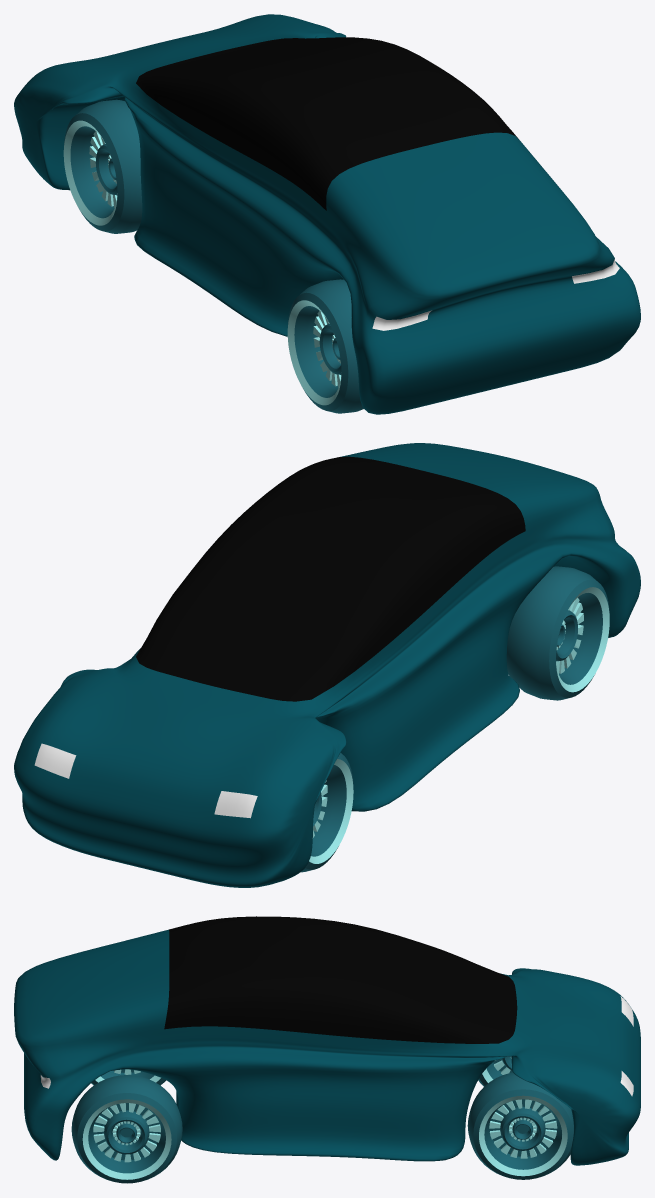
File: Deco_Car.fbx
The picture shows the model from 3 angles, top to bottom: view 1: azimuth 30°, elevation 25°; view 2: azimuth 150°, elevation 25°; view 3: azimuth 270°, elevation 25°; orthographic projection. The views are drawn at different scales.
Visible parts, largest first — view 1: Cube, Vert.003; view 2: Cube, Vert.003; view 3: Cube, Vert.003.
Boxes of the visible parts, left/top/right/bottom form: Cube: left=14, top=14, right=640, bottom=414; Vert.003: left=63, top=99, right=363, bottom=413; Cube: left=14, top=443, right=640, bottom=887; Vert.003: left=301, top=566, right=609, bottom=872; Cube: left=14, top=916, right=640, bottom=1165; Vert.003: left=71, top=1056, right=573, bottom=1183.
Size of the model in its own units: 64.99 by 153 by 51.67.
